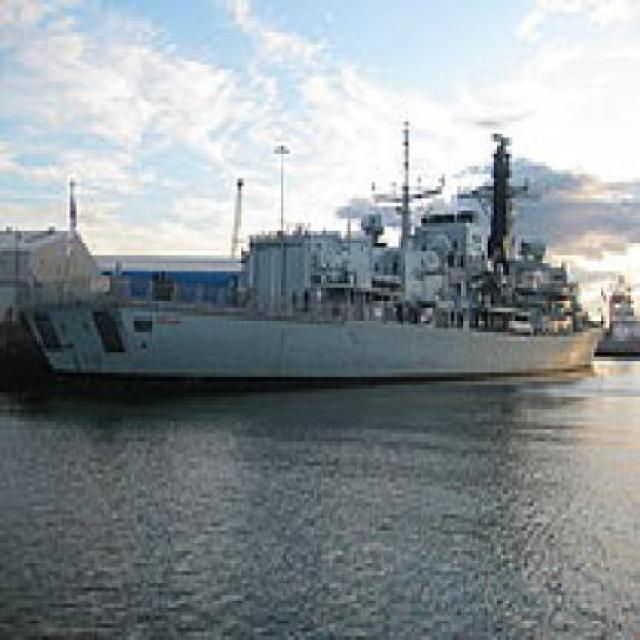warship2: (37, 34, 617, 403)
